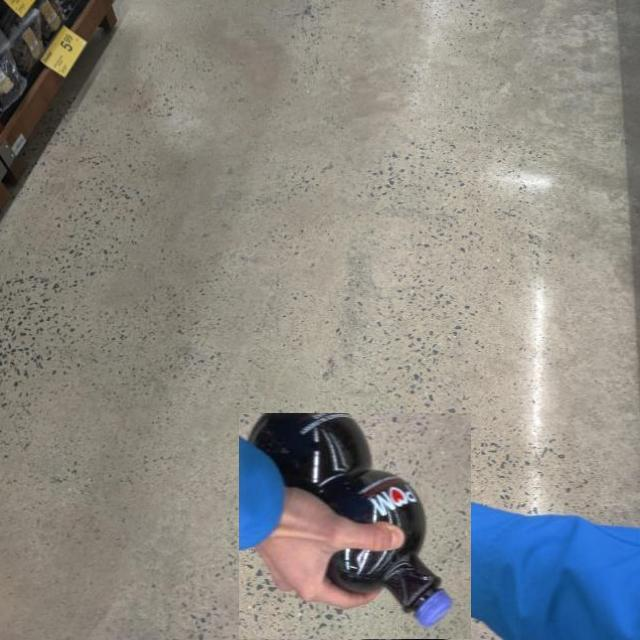Juice: (238, 413, 471, 639)
